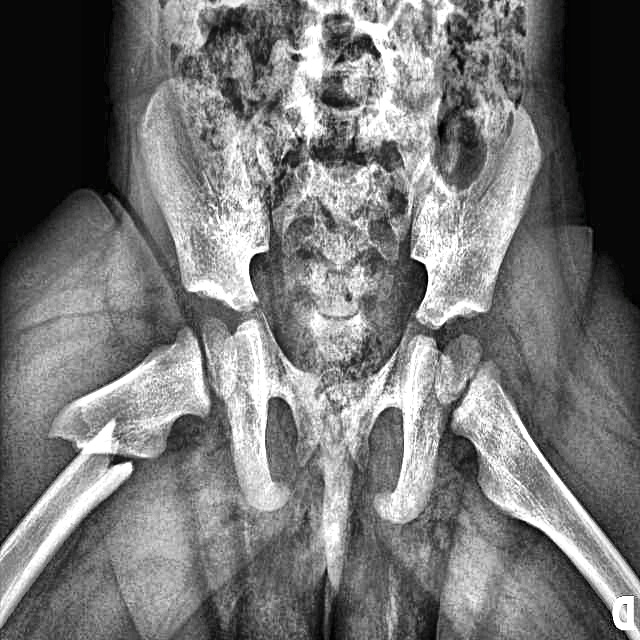Transverse: (39, 389, 157, 508)
